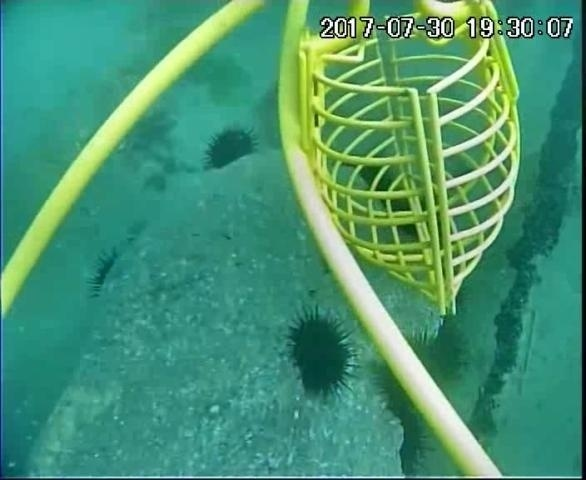echinus: (283, 306, 361, 402), (400, 320, 472, 391), (201, 123, 260, 174)
